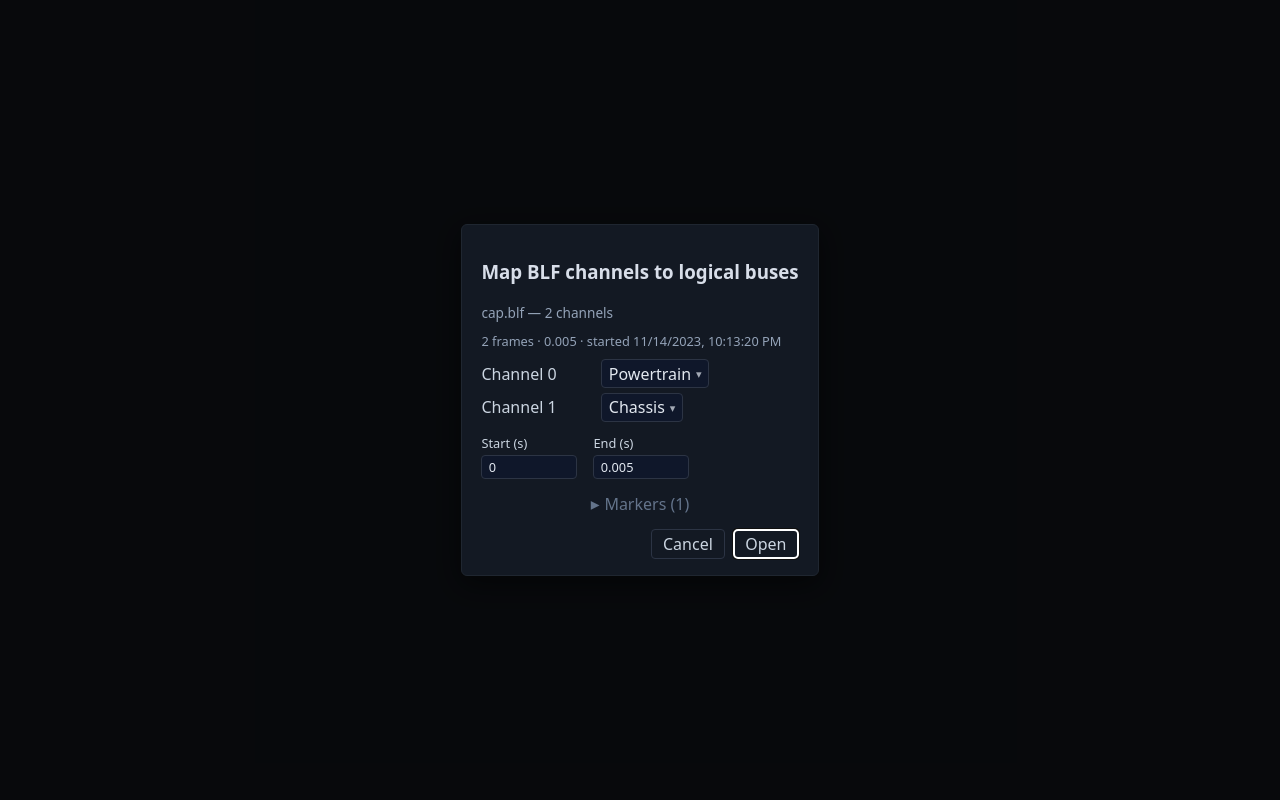
it: BlfChannelMapModal › markers gridview starts collapsed and expands on toggle
Expected: the text "Event A" is not shown
Click the button "▸ Markers (1)". click: click(640, 504)
box: left=481, top=492, right=799, bottom=516
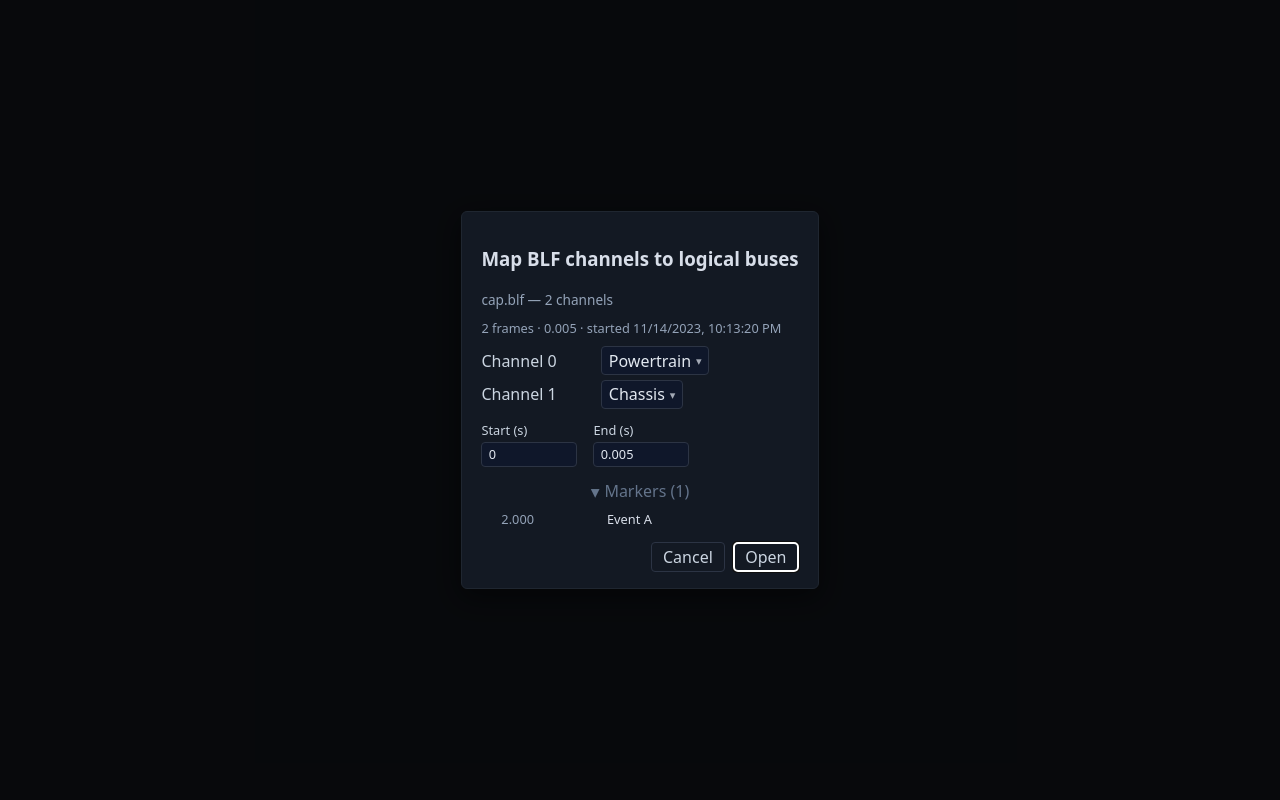
Result: the button "▾ Markers (1)" is expanded at left=481, top=479, right=799, bottom=503
Result: the text "Event A" is shown at left=607, top=510, right=652, bottom=528
Result: the text "2.000" is shown at left=501, top=510, right=534, bottom=528
